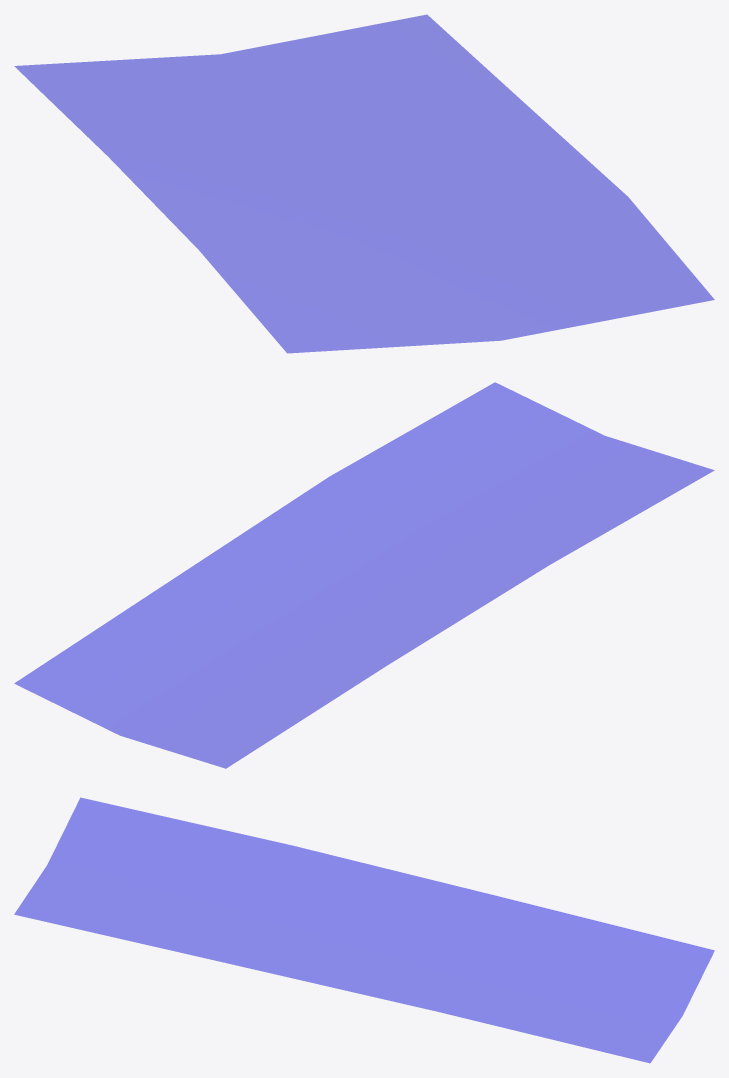
Rendered from track_la_coll_road_43.fbx.
3 renders of one model, top to bottom at view 1: azimuth 30°, elevation 25°; view 2: azimuth 150°, elevation 25°; view 3: azimuth 270°, elevation 25°, orthographic. The views are drawn at different scales.
Visible parts, largest first — view 1: track_la_coll_road_43; view 2: track_la_coll_road_43; view 3: track_la_coll_road_43.
Part boxes in pixels (left/top/right/bottom): track_la_coll_road_43: left=14, top=14, right=714, bottom=353; track_la_coll_road_43: left=14, top=382, right=714, bottom=768; track_la_coll_road_43: left=14, top=797, right=714, bottom=1063.
Bounding box in the file's own units: 33.36 × 7.86 × 54.09.
